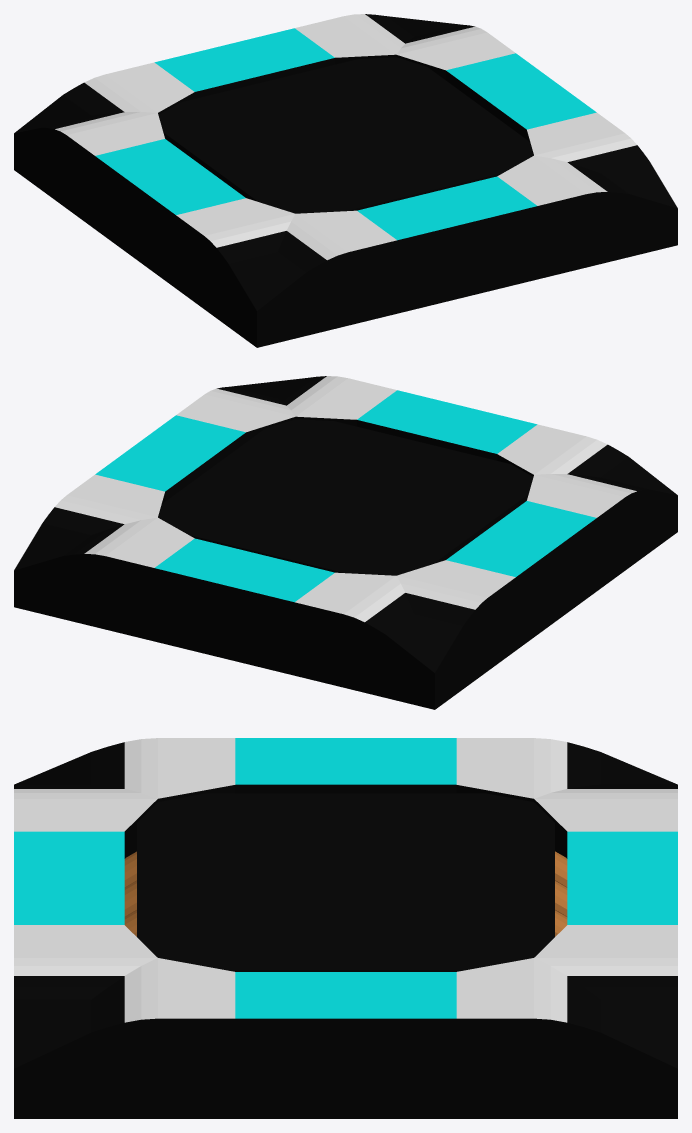
Rendered from crossingNode.fbx.
3 renders of one model, top to bottom at view 1: azimuth 30°, elevation 25°; view 2: azimuth 150°, elevation 25°; view 3: azimuth 270°, elevation 25°, orthographic. The views are drawn at different scales.
Parts seen in each view (by area): view 1: Plane, Cube.002; view 2: Plane, Cube.002; view 3: Plane, Cube.002.
Boxes of the visible parts, box(x1,y1,x2,y2) form: Plane: box(14, 14, 677, 347); Cube.002: box(158, 57, 533, 213); Plane: box(14, 376, 677, 709); Cube.002: box(158, 419, 533, 575); Plane: box(14, 738, 677, 1118); Cube.002: box(124, 793, 567, 971).
Size of the model in its own units: 600 by 100 by 600.
